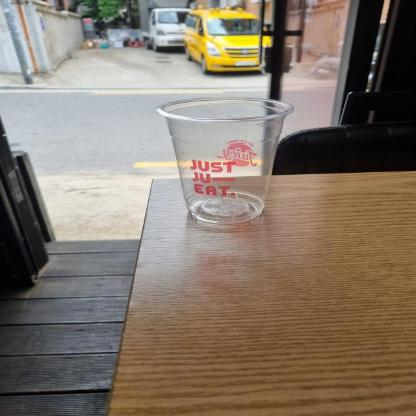Plastic Cup: (152, 92, 301, 230)
